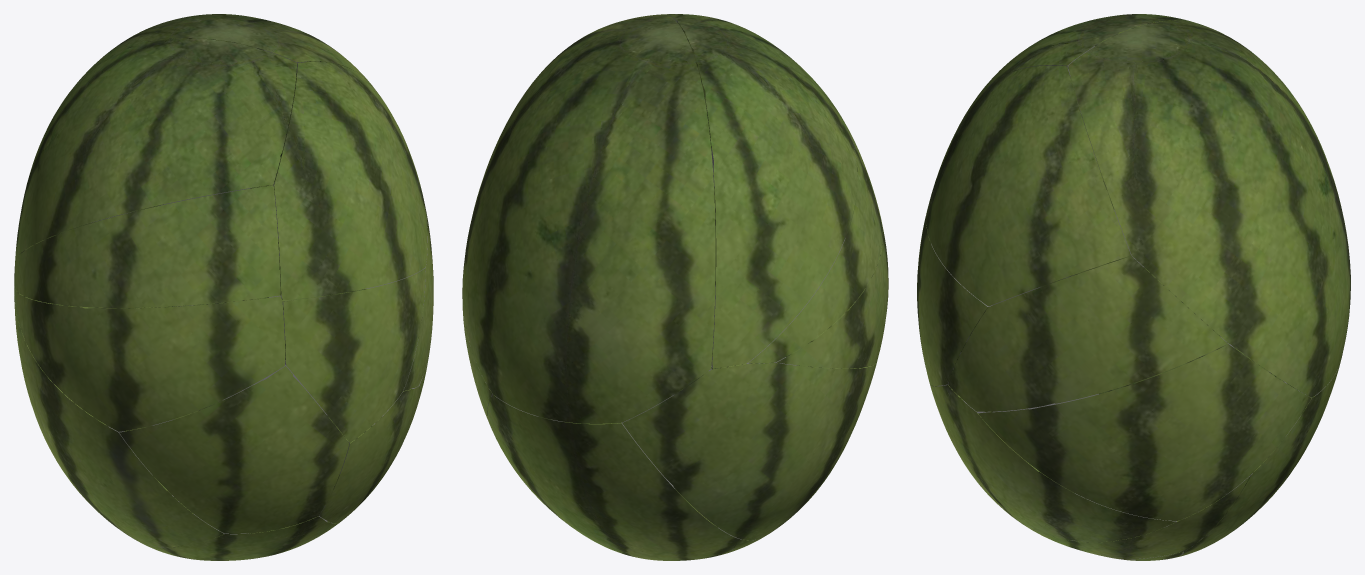
File: newMelon_pieces.fbx
The picture shows the model from 3 angles, left to right: view 1: azimuth 30°, elevation 25°; view 2: azimuth 150°, elevation 25°; view 3: azimuth 270°, elevation 25°; orthographic projection.
Parts seen in each view (by area): view 1: 10211_Watermelon_v1-L3_cell.004, 10211_Watermelon_v1-L3_cell.009, 10211_Watermelon_v1-L3_cell.008, 10211_Watermelon_v1-L3_cell.011, 10211_Watermelon_v1-L3_cell.018, 10211_Watermelon_v1-L3_cell.014, 10211_Watermelon_v1-L3_cell.016, 10211_Watermelon_v1-L3_cell, 10211_Watermelon_v1-L3_cell.007, 10211_Watermelon_v1-L3_cell.002, 10211_Watermelon_v1-L3_cell.013; view 2: 10211_Watermelon_v1-L3_cell, 10211_Watermelon_v1-L3_cell.004, 10211_Watermelon_v1-L3_cell.016, 10211_Watermelon_v1-L3_cell.012, 10211_Watermelon_v1-L3_cell.011, 10211_Watermelon_v1-L3_cell.008, 10211_Watermelon_v1-L3_cell.010; view 3: 10211_Watermelon_v1-L3_cell, 10211_Watermelon_v1-L3_cell.009, 10211_Watermelon_v1-L3_cell.010, 10211_Watermelon_v1-L3_cell.013, 10211_Watermelon_v1-L3_cell.007, 10211_Watermelon_v1-L3_cell.014, 10211_Watermelon_v1-L3_cell.012, 10211_Watermelon_v1-L3_cell.001, 10211_Watermelon_v1-L3_cell.004.
Boxes of the visible parts, <box> form: 10211_Watermelon_v1-L3_cell.004: <box>15,38,296,260</box>; 10211_Watermelon_v1-L3_cell.009: <box>273,61,427,300</box>; 10211_Watermelon_v1-L3_cell.008: <box>14,287,285,431</box>; 10211_Watermelon_v1-L3_cell.011: <box>14,185,280,307</box>; 10211_Watermelon_v1-L3_cell.018: <box>119,365,349,533</box>; 10211_Watermelon_v1-L3_cell.014: <box>282,268,425,442</box>; 10211_Watermelon_v1-L3_cell.016: <box>14,295,224,547</box>; 10211_Watermelon_v1-L3_cell: <box>63,14,372,100</box>; 10211_Watermelon_v1-L3_cell.007: <box>319,386,420,523</box>; 10211_Watermelon_v1-L3_cell.002: <box>134,516,338,560</box>; 10211_Watermelon_v1-L3_cell.013: <box>403,207,433,390</box>; 10211_Watermelon_v1-L3_cell: <box>462,14,715,423</box>; 10211_Watermelon_v1-L3_cell.004: <box>668,14,857,368</box>; 10211_Watermelon_v1-L3_cell.016: <box>622,362,876,540</box>; 10211_Watermelon_v1-L3_cell.012: <box>487,394,738,560</box>; 10211_Watermelon_v1-L3_cell.011: <box>747,124,882,363</box>; 10211_Watermelon_v1-L3_cell.008: <box>776,220,888,368</box>; 10211_Watermelon_v1-L3_cell.010: <box>462,288,492,418</box>; 10211_Watermelon_v1-L3_cell: <box>1068,20,1350,397</box>; 10211_Watermelon_v1-L3_cell.009: <box>926,65,1131,306</box>; 10211_Watermelon_v1-L3_cell.010: <box>977,342,1311,520</box>; 10211_Watermelon_v1-L3_cell.013: <box>948,256,1227,411</box>; 10211_Watermelon_v1-L3_cell.007: <box>930,384,1176,542</box>; 10211_Watermelon_v1-L3_cell.014: <box>917,212,991,385</box>; 10211_Watermelon_v1-L3_cell.012: <box>1179,363,1340,556</box>; 10211_Watermelon_v1-L3_cell.001: <box>1021,476,1249,559</box>; 10211_Watermelon_v1-L3_cell.004: <box>976,14,1194,97</box>.
Bounding box in the file's own units: 154 × 205 × 157.
